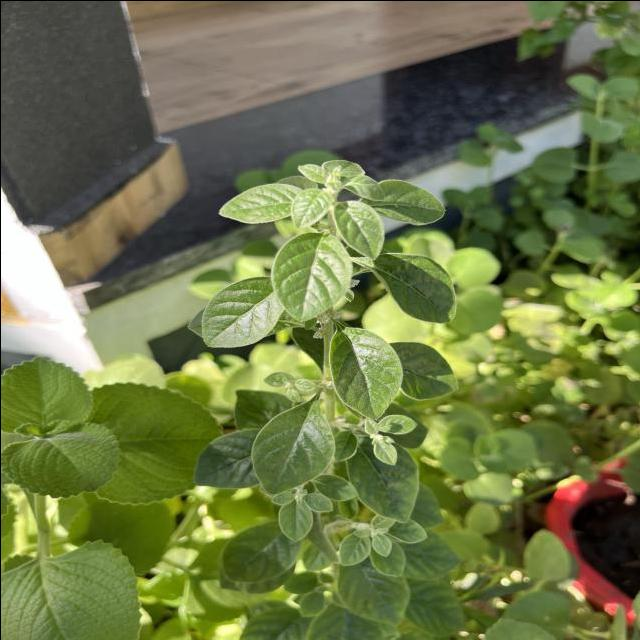Aerva lanata: (248, 397, 337, 495), (326, 322, 406, 422), (355, 248, 458, 324), (198, 272, 286, 350)
